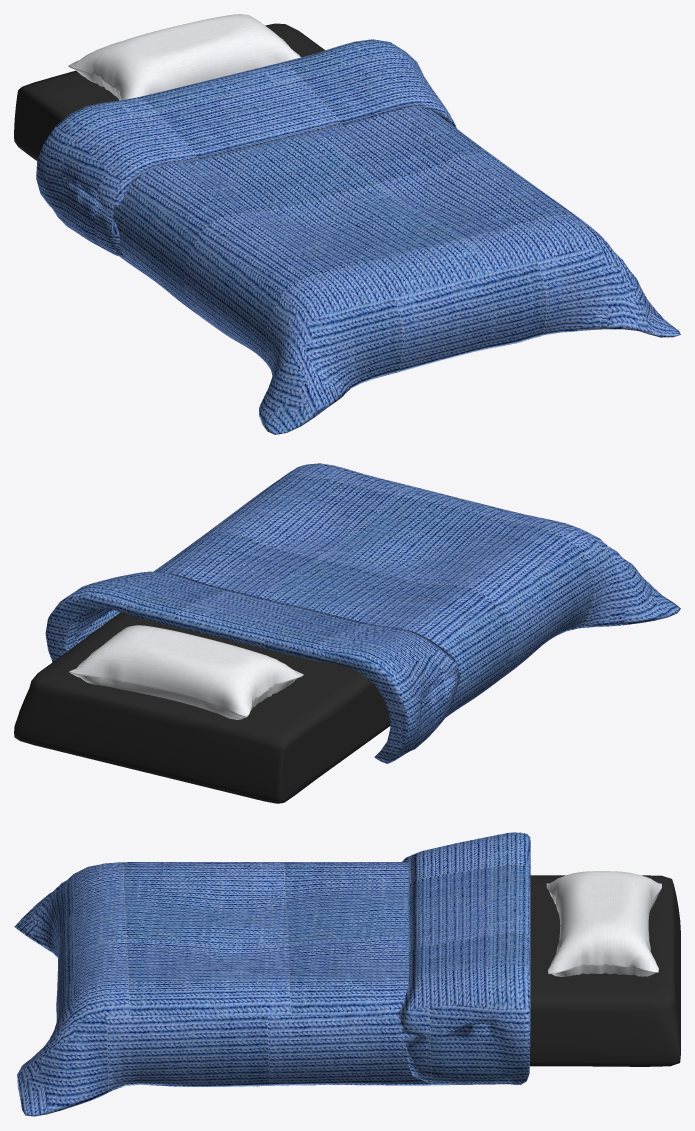
Rendered from Cama.obj.
3 renders of one model, top to bottom at view 1: azimuth 30°, elevation 25°; view 2: azimuth 150°, elevation 25°; view 3: azimuth 270°, elevation 25°, orthographic. The views are drawn at different scales.
Parts seen in each view (by area): view 1: Cama:Mesh1; view 2: Cama:Mesh1; view 3: Cama:Mesh1.
Part boxes in pixels (x1=…): Cama:Mesh1: x1=14, y1=14, x2=680, y2=434; Cama:Mesh1: x1=14, y1=463, x2=680, y2=803; Cama:Mesh1: x1=14, y1=832, x2=680, y2=1116.
Size of the model in its own units: 5.54 by 1.67 by 7.99.
